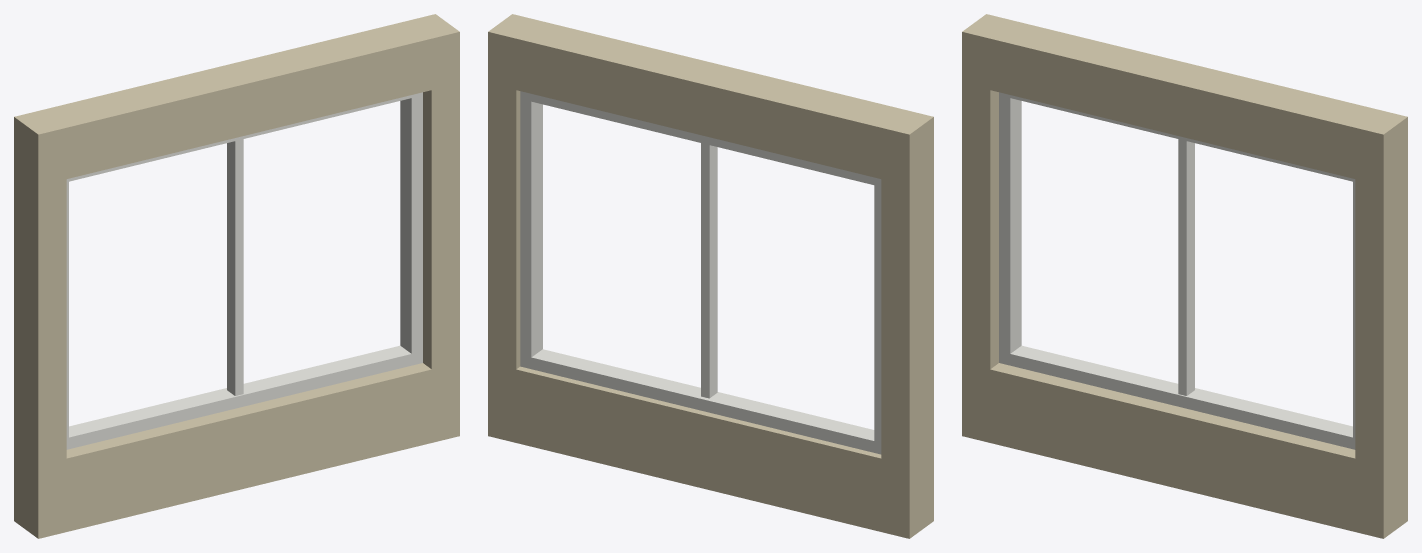
Rendered from Kit_plaster_shopwindow.fbx.
The picture shows the model from 3 angles, left to right: view 1: azimuth 30°, elevation 25°; view 2: azimuth 150°, elevation 25°; view 3: azimuth 330°, elevation 25°; orthographic projection.
Visible parts, largest first — view 1: WallBelow, WallAbove, WallJambL, WallJambR, FrameBottom, FrameR, Mullion, FrameTop, FrameL; view 2: WallBelow, WallAbove, WallJambL, WallJambR, FrameBottom, FrameR, Mullion, FrameTop, FrameL; view 3: WallBelow, WallAbove, WallJambR, WallJambL, FrameBottom, FrameL, Mullion, FrameTop, FrameR.
Boxes of the visible parts, box(x1,y1,x2,y2) form: WallBelow: box(66, 363, 431, 531); WallAbove: box(42, 21, 431, 178); WallJambL: box(14, 110, 66, 538); WallJambR: box(408, 14, 459, 442); FrameBottom: box(66, 345, 422, 449); FrameR: box(400, 94, 422, 365); Mullion: box(227, 139, 243, 395); FrameTop: box(67, 92, 422, 181); FrameL: box(66, 179, 68, 441); WallBelow: box(516, 366, 881, 531); WallAbove: box(516, 21, 905, 178); WallJambL: box(881, 110, 933, 538); WallJambR: box(488, 14, 539, 442); FrameBottom: box(520, 349, 881, 452); FrameR: box(520, 91, 542, 368); Mullion: box(701, 143, 717, 398); FrameTop: box(527, 93, 881, 186); FrameL: box(874, 177, 881, 454); WallBelow: box(990, 363, 1355, 531); WallAbove: box(990, 21, 1379, 178); WallJambR: box(1355, 110, 1407, 538); WallJambL: box(962, 14, 1013, 442); FrameBottom: box(999, 345, 1355, 449); FrameL: box(999, 93, 1021, 364); Mullion: box(1178, 139, 1194, 395); FrameTop: box(999, 92, 1355, 181); FrameR: box(1353, 180, 1355, 439).
Bounding box in the file's own units: 300 × 30 × 275.
